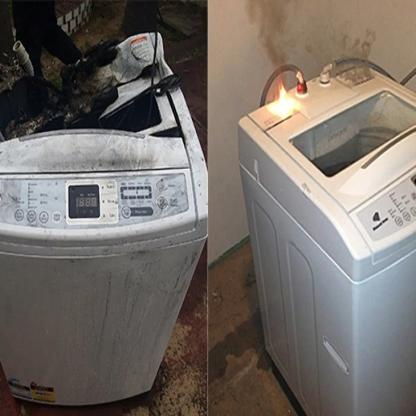fire: (268, 80, 301, 114)
smoke: (241, 0, 367, 80)
